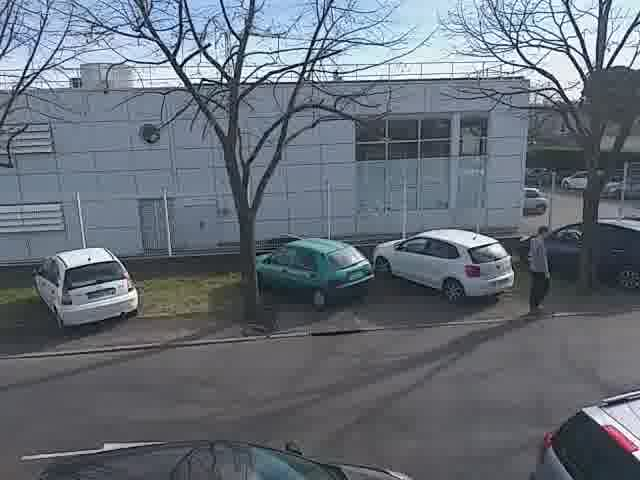persona: (520, 222, 560, 315)
